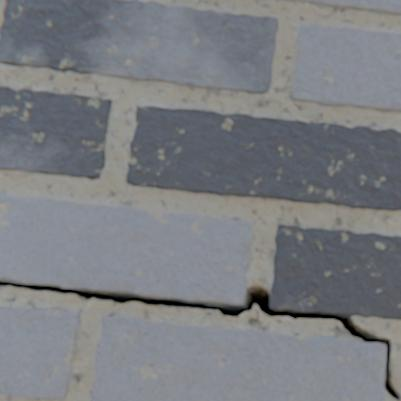brick: (127, 107, 400, 211), (0, 195, 253, 304), (0, 0, 278, 94), (92, 316, 384, 400), (271, 225, 400, 319), (0, 87, 113, 180), (292, 25, 400, 112), (0, 306, 80, 399), (276, 0, 400, 16)
crack: (0, 279, 400, 400)
